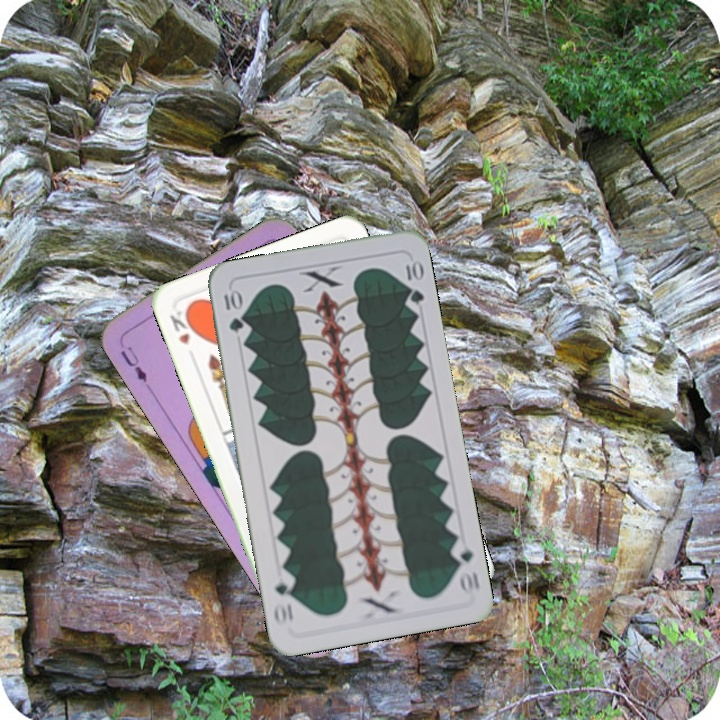EU: (116, 342, 150, 386)
G10: (447, 537, 482, 597), (220, 285, 246, 335)
HK: (165, 304, 199, 348)
